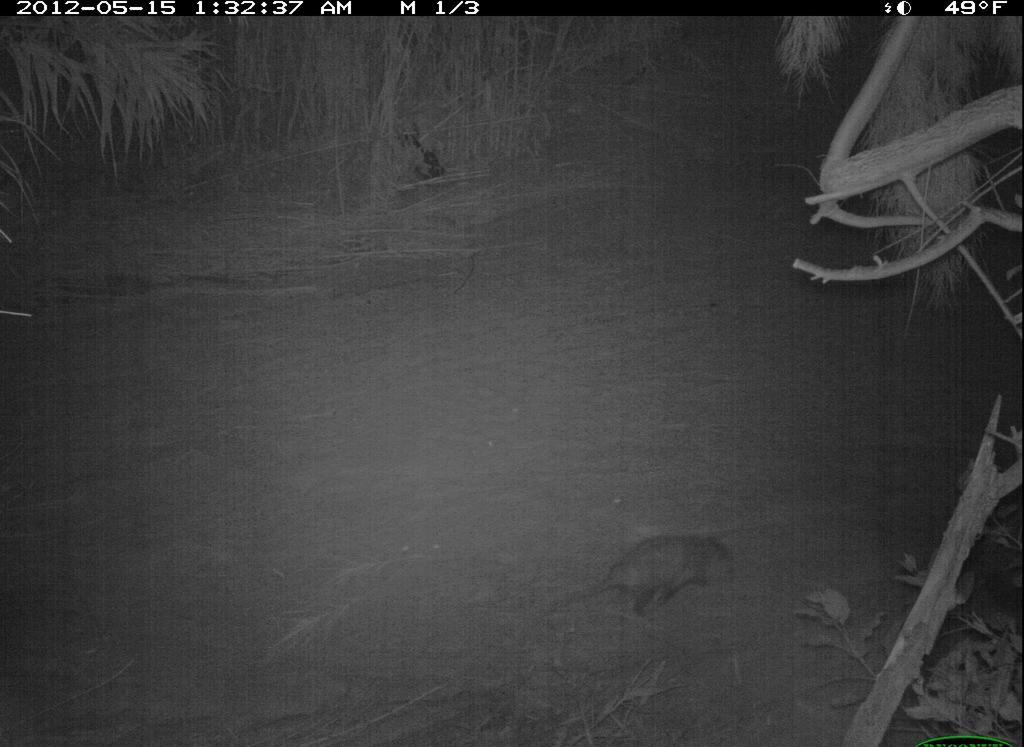opossum: (551, 525, 745, 630)
